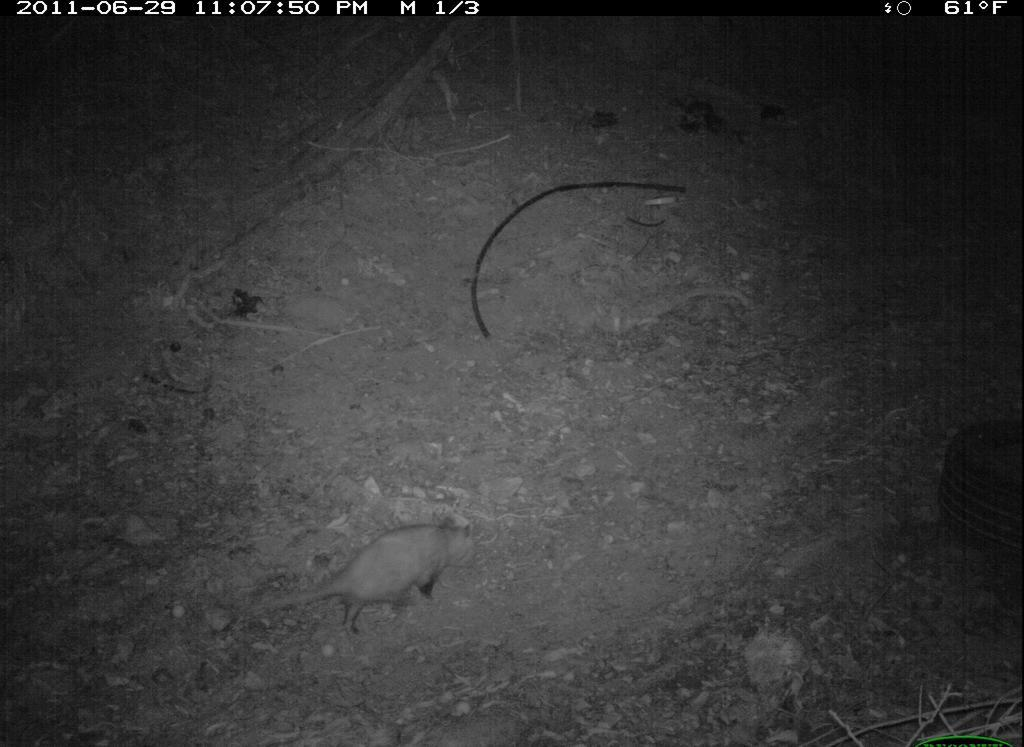opossum: (233, 515, 486, 637)
